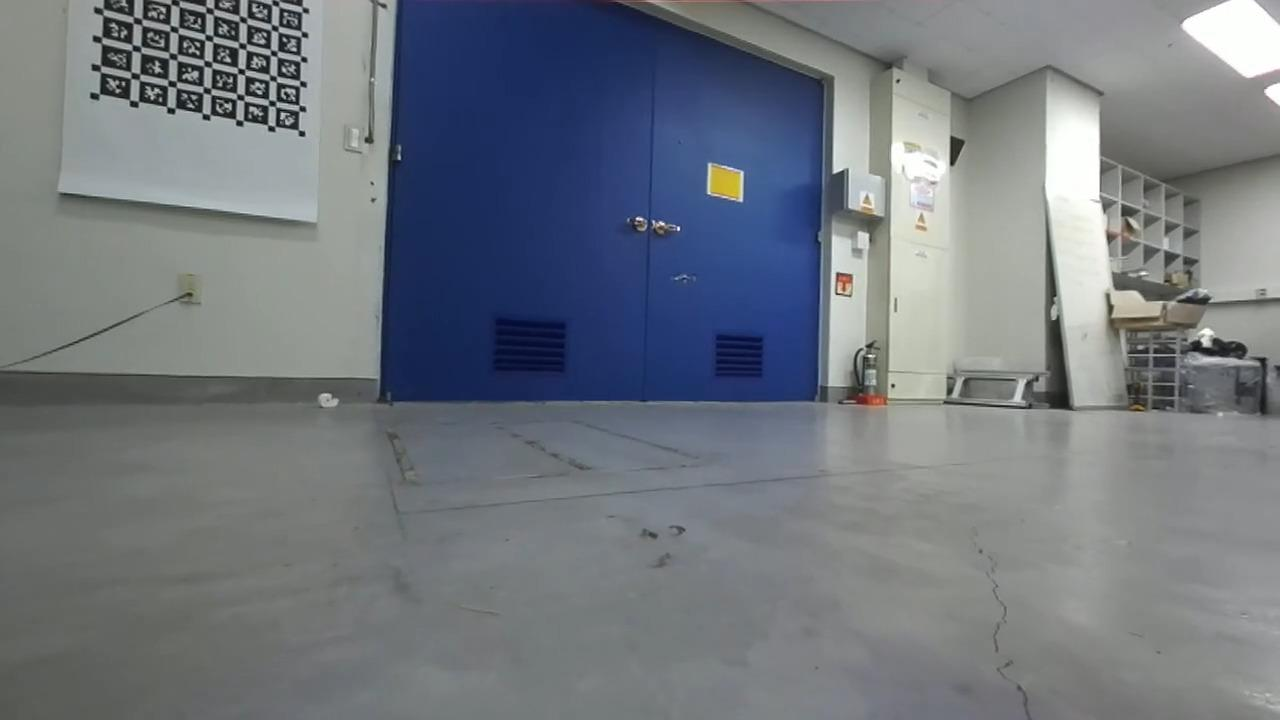crazyflie: (657, 268, 706, 289)
